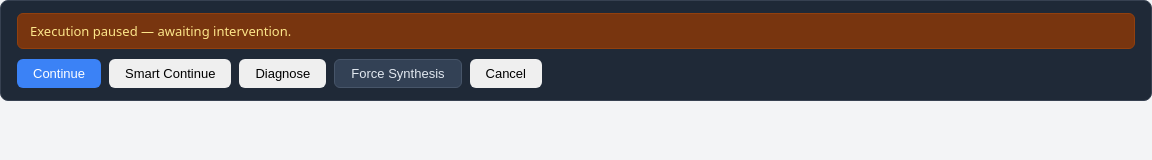
Test case: SwarmStatusWindow › surfaces a lock-holder message on 423 response
Click the button "Smart Continue". click: (170, 74)
box: 109,59 -> 231,88
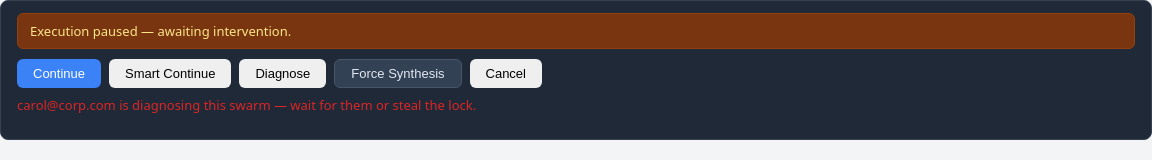
expect the text "carol@corp.com is diagnosing" is shown: met, box 17,96 -> 476,114
